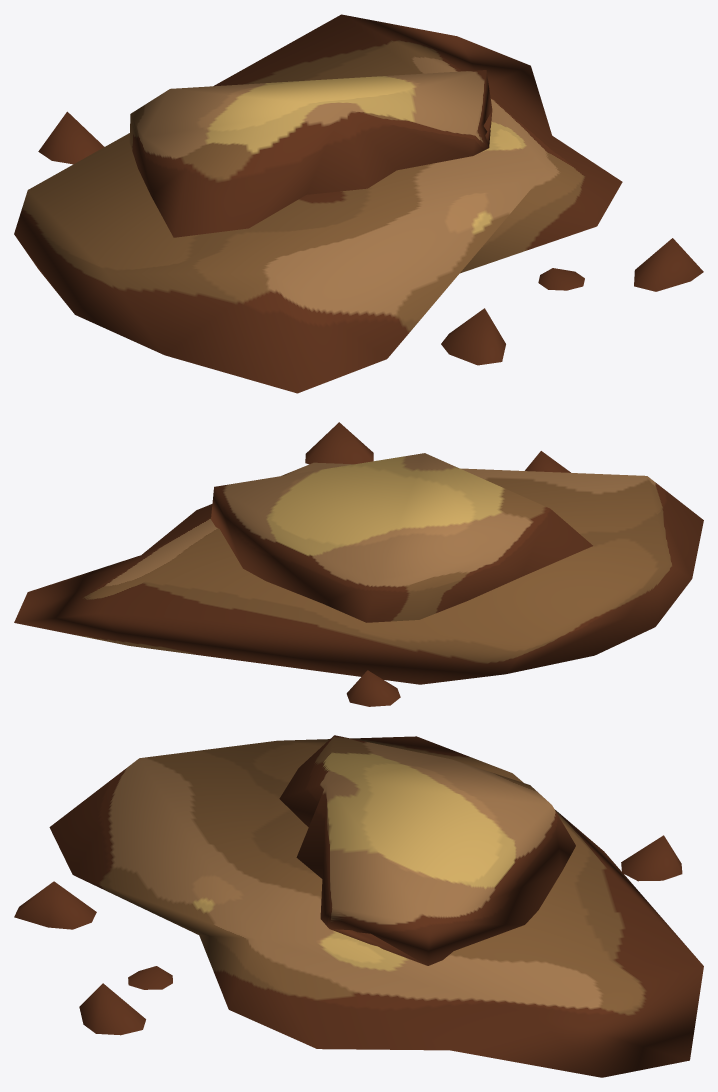
File: Rock 3x 3 9_preview_3DS_simplified.glb
3 renders of one model, top to bottom at view 1: azimuth 30°, elevation 25°; view 2: azimuth 150°, elevation 25°; view 3: azimuth 270°, elevation 25°, orthographic. The views are drawn at different scales.
Parts seen in each view (by area): view 1: Marine Park Empire model; view 2: Marine Park Empire model; view 3: Marine Park Empire model.
Boxes of the visible parts, x1,y1,x2,y2 form: Marine Park Empire model: [14, 14, 703, 393]; Marine Park Empire model: [14, 422, 703, 706]; Marine Park Empire model: [14, 735, 703, 1077].
Bounding box in the file's own units: 92.24 × 20.36 × 91.95.
1 material, 1 textured.
